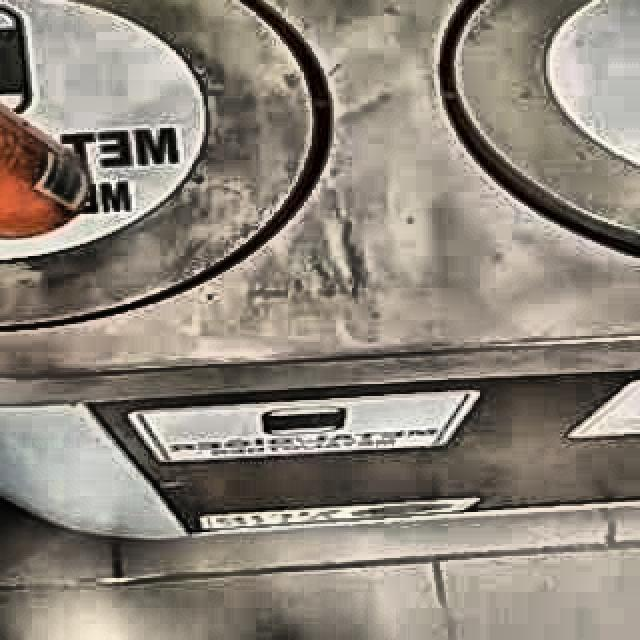metal: (0, 103, 91, 239)
